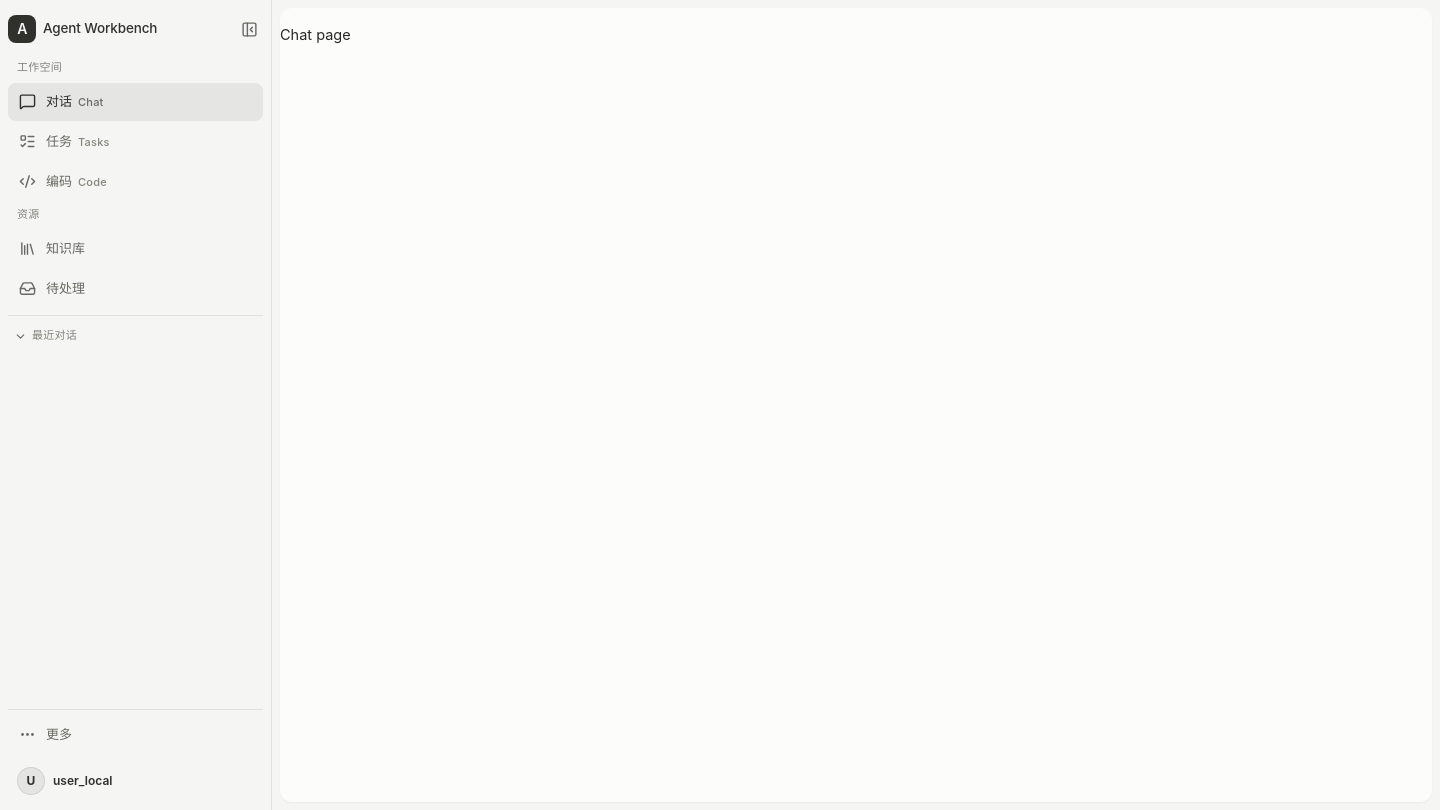
Test: AppShell quick switcher › opens from the keyboard and goes to an exact Workbench destination
The image size is (1440, 810).
Press k
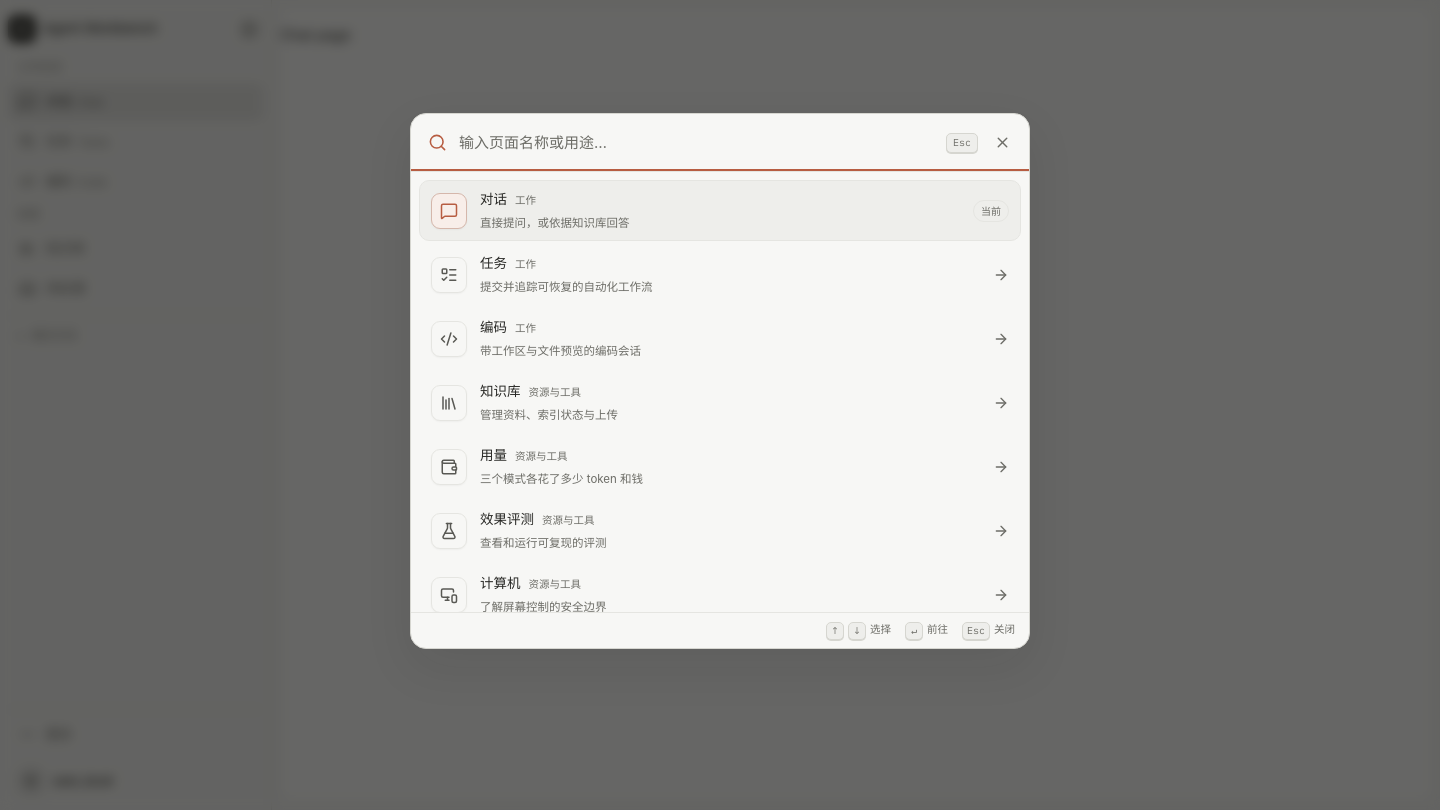
# 中文是 label 本身；英文名靠 keywords 兜——输入 tasks 也要能到同一处。
Type "任务" into the dropdown named "搜索页面" at [698, 143], box [459,115,937,171]
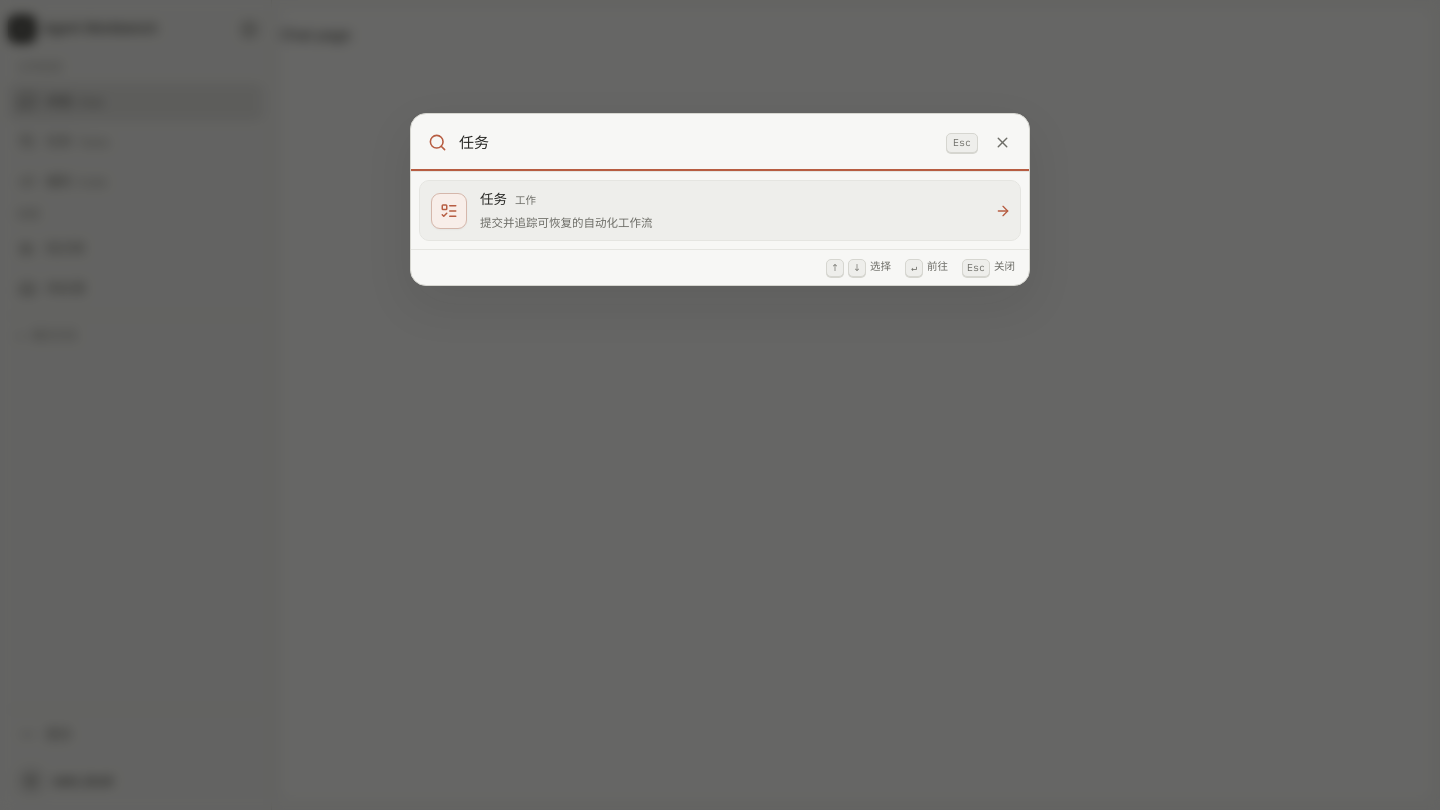
Expected: the number of options is 1, [419,180,1021,241]
Press Enter
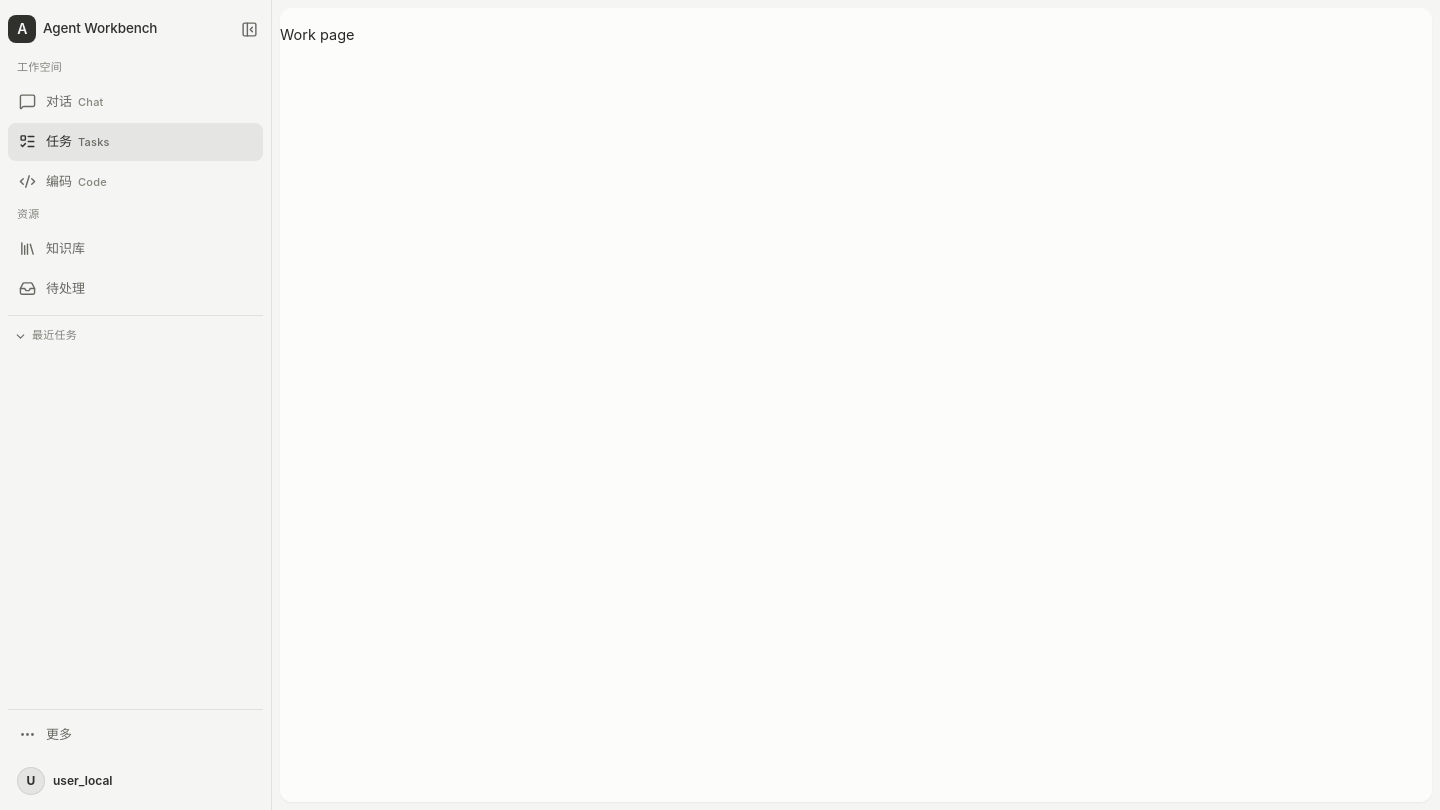
Expected: the dialog "快速跳转" is not shown
Expected: the text "Work page" is shown, [280,26,354,42]
